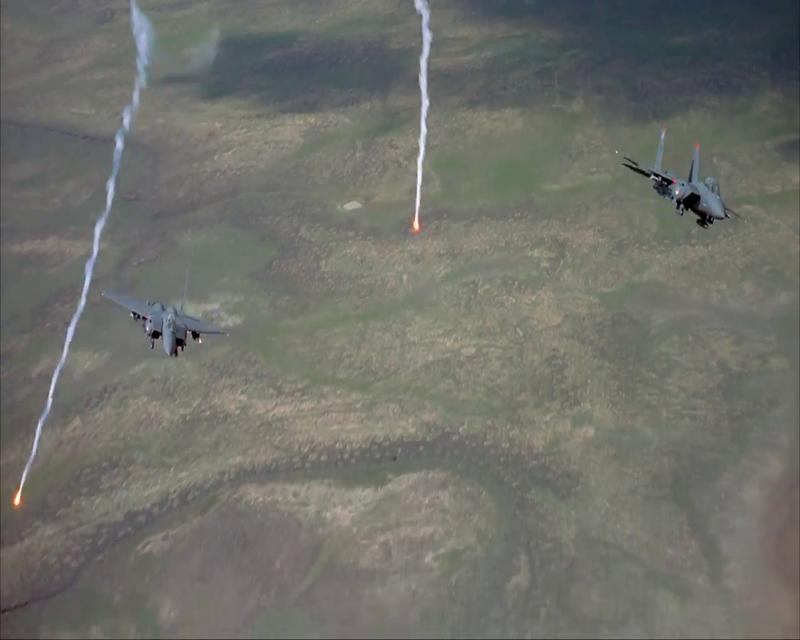UAV: (615, 128, 733, 232), (99, 280, 234, 357)
